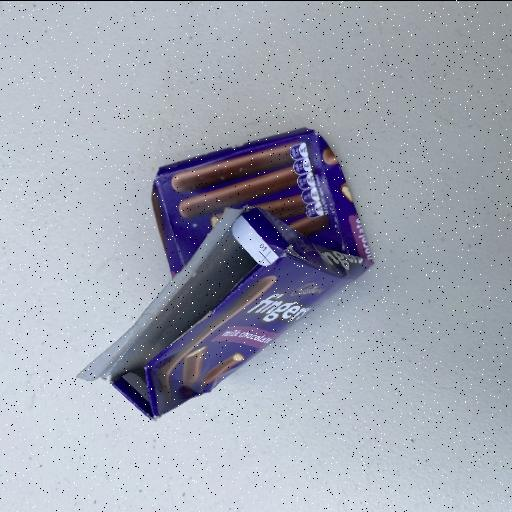Cardboard: (75, 125, 375, 421)
